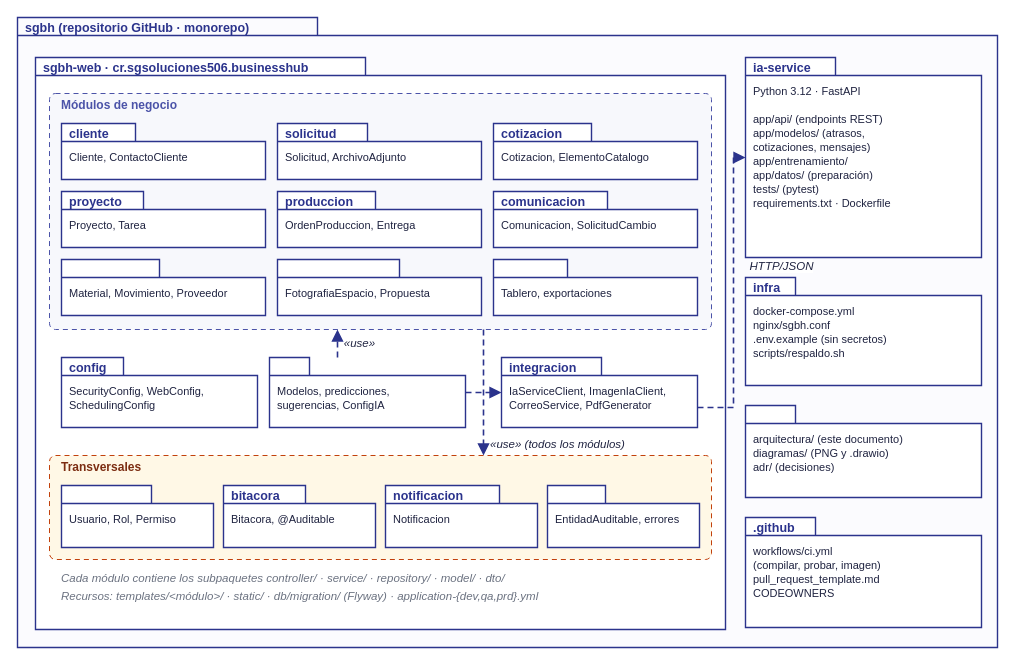
Image size: 1016x666. Some labels were removed from this diagram. The box of each missing label's shape, as (x1, y1, x2, y2) in pixels:
comun: (546, 484, 700, 548)
docs: (744, 404, 982, 498)
ia: (268, 356, 466, 428)
inventario: (60, 258, 266, 316)
reporte: (492, 258, 698, 316)
seguridad: (60, 484, 214, 548)
visualizacion: (276, 258, 482, 316)
